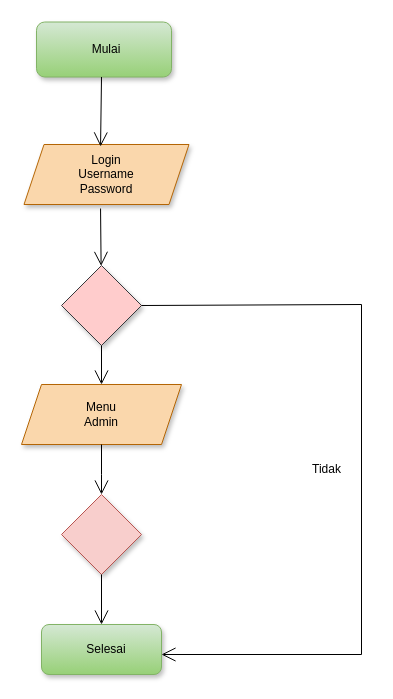
The diagram is 393 pixels wide and 699 high, and some of its shapes have lost their labels. The centre of each missing label's shape, as x and y in pixels:
Login: (x=102, y=306)
Logout: (x=102, y=536)
